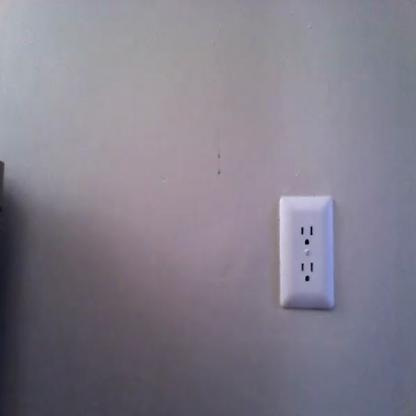OUTLET: (278, 195, 336, 310)
